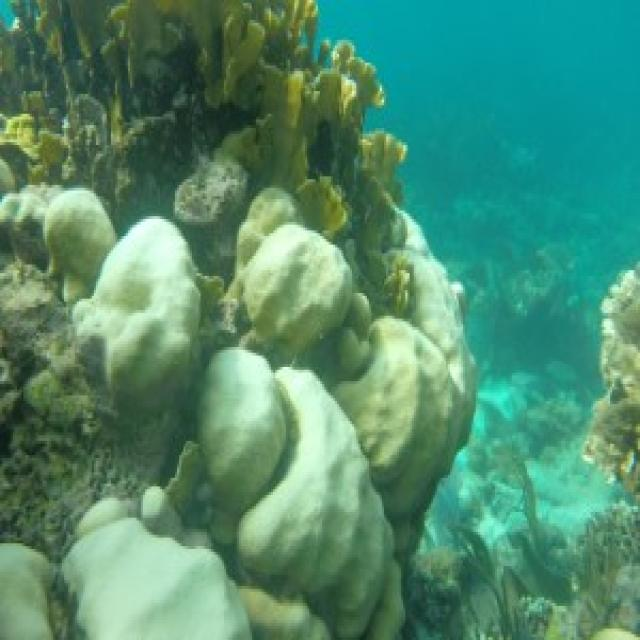Bleached: (338, 209, 477, 527), (240, 371, 391, 635), (63, 499, 251, 638), (74, 217, 199, 408), (227, 192, 349, 354), (197, 354, 287, 516), (1, 186, 116, 288), (1, 528, 69, 640)
Healthy: (1, 1, 408, 311)
